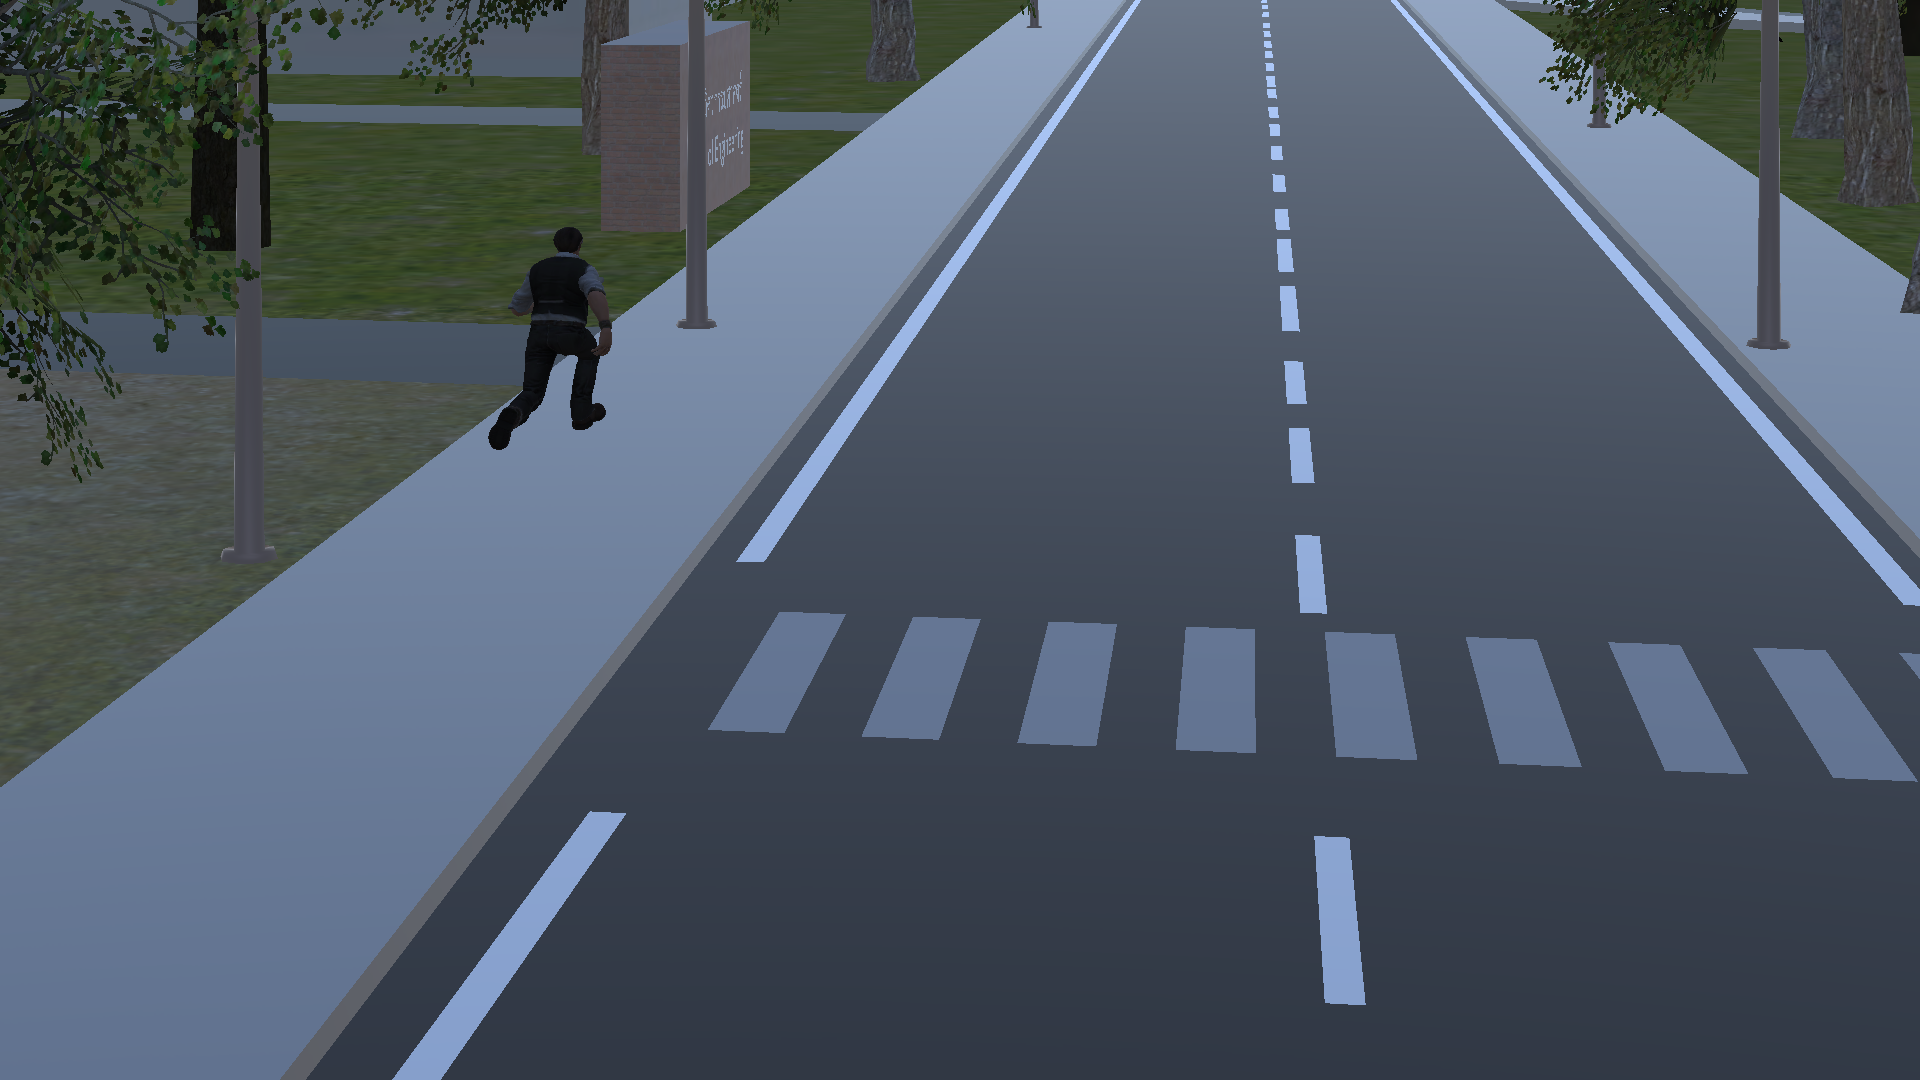pedestrian: (488, 213, 627, 451)
